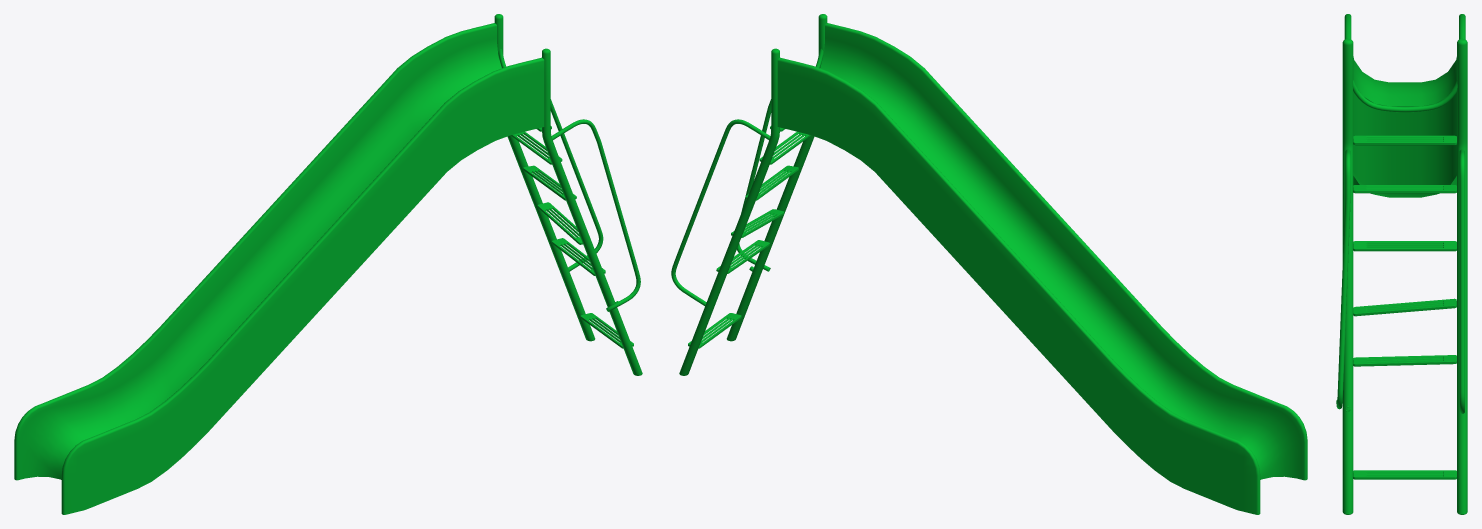
File: Slide.fbx
The picture shows the model from 3 angles, left to right: view 1: azimuth 30°, elevation 25°; view 2: azimuth 150°, elevation 25°; view 3: azimuth 270°, elevation 25°; orthographic projection. The views are drawn at different scales.
Visible parts, largest first — view 1: Plane.001, Old Playground Item: Slide, Plane.008; view 2: Plane.001, Old Playground Item: Slide, Plane.008; view 3: Old Playground Item: Slide, Plane.001, Plane.008.
Part boxes in pixels (bbox=[...]): Plane.001: bbox=[14, 23, 544, 514]; Old Playground Item: Slide: bbox=[494, 14, 642, 375]; Plane.008: bbox=[511, 126, 633, 348]; Plane.001: bbox=[777, 23, 1307, 514]; Old Playground Item: Slide: bbox=[671, 14, 827, 375]; Plane.008: bbox=[688, 126, 810, 348]; Old Playground Item: Slide: bbox=[1336, 38, 1467, 514]; Plane.001: bbox=[1344, 14, 1465, 197]; Plane.008: bbox=[1353, 135, 1456, 479].
Size of the model in its own units: 305 by 172 by 48.86.
